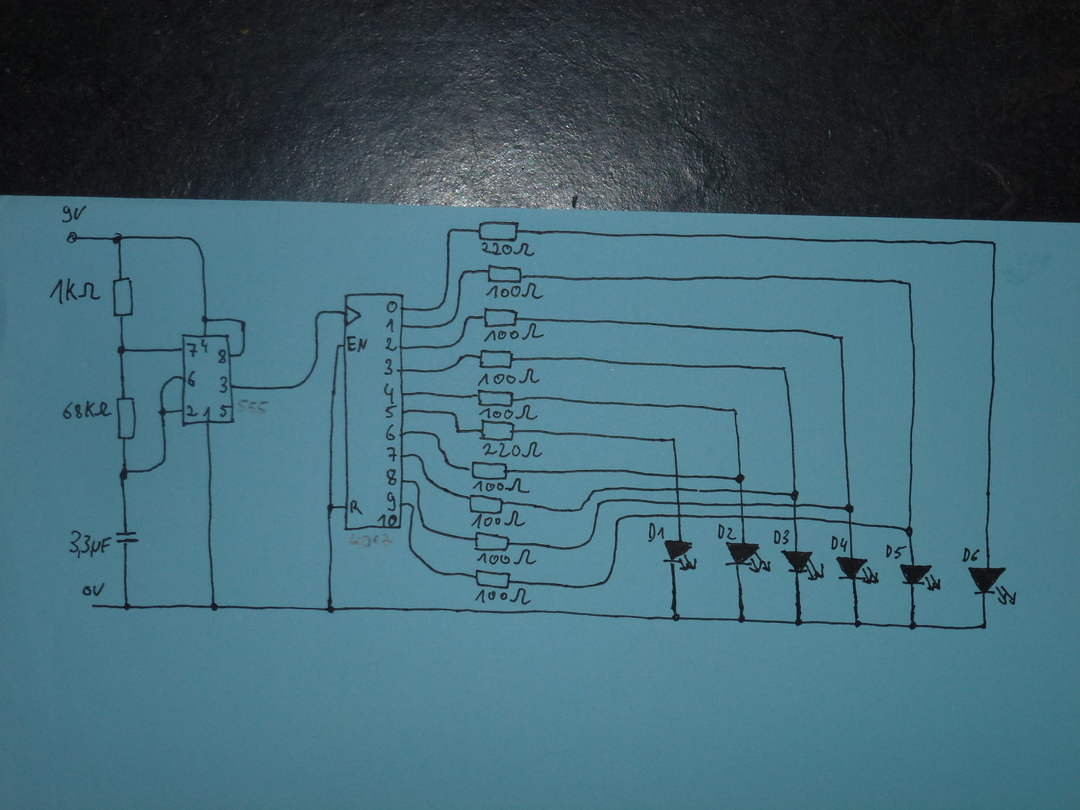capacitor.unpolarized: (115, 529, 140, 546)
crossover: (673, 485, 683, 494), (738, 486, 747, 495), (846, 519, 855, 528), (673, 472, 683, 480), (674, 499, 684, 507), (738, 513, 748, 521), (674, 512, 683, 520), (738, 499, 746, 508), (791, 515, 800, 523), (792, 502, 799, 509)
diode.light_emitting: (967, 566, 1017, 607), (725, 541, 772, 574), (780, 549, 825, 582), (835, 555, 880, 585), (899, 563, 942, 592), (663, 540, 699, 572)
integrated_circuit: (342, 291, 405, 532)
integrated_cricuit.ne555: (180, 331, 235, 426)
junction: (300, 356, 320, 386), (405, 544, 427, 567), (188, 232, 209, 255), (158, 376, 177, 391), (111, 232, 125, 247), (117, 467, 131, 481), (155, 457, 169, 471), (902, 524, 915, 539), (598, 575, 613, 588), (324, 601, 337, 616), (579, 539, 595, 550), (440, 459, 456, 470), (457, 267, 468, 283), (733, 472, 746, 485), (324, 500, 337, 513), (447, 313, 459, 327), (907, 620, 919, 633), (851, 617, 863, 630), (789, 488, 801, 501), (208, 600, 220, 613), (411, 451, 425, 462), (418, 518, 429, 532), (735, 614, 747, 626), (844, 502, 856, 514), (199, 314, 211, 326), (436, 295, 447, 308), (458, 352, 470, 363), (444, 226, 456, 237), (452, 336, 463, 348), (313, 308, 323, 321), (793, 617, 804, 628), (670, 612, 681, 623), (116, 345, 128, 355), (239, 317, 249, 329), (449, 409, 461, 419), (122, 602, 132, 614), (837, 332, 847, 343), (978, 621, 989, 631), (158, 407, 169, 417), (237, 347, 247, 358), (431, 429, 442, 439), (443, 366, 456, 374), (905, 279, 915, 289), (614, 515, 624, 525), (413, 482, 423, 492), (424, 473, 433, 484), (595, 499, 605, 508), (463, 314, 472, 324), (575, 505, 586, 513), (990, 238, 999, 247), (731, 406, 740, 415), (454, 426, 462, 436), (780, 364, 789, 372), (589, 486, 597, 495), (333, 342, 341, 351), (408, 502, 414, 513), (670, 436, 678, 444)
resistor: (115, 395, 138, 441), (111, 276, 135, 319), (477, 219, 519, 243), (473, 530, 512, 553), (479, 419, 516, 442), (468, 461, 509, 481), (482, 306, 519, 328), (478, 348, 515, 370), (474, 568, 511, 590), (468, 493, 504, 515), (476, 388, 515, 408), (487, 263, 523, 284)
terminal: (65, 231, 80, 244), (89, 602, 98, 611)
text: (49, 278, 102, 305), (67, 529, 113, 560), (477, 368, 540, 387), (485, 322, 544, 342), (475, 588, 532, 606), (62, 399, 113, 419), (477, 548, 537, 565), (480, 241, 537, 258), (483, 442, 543, 458), (473, 478, 531, 494), (472, 511, 526, 528), (486, 283, 543, 299), (479, 405, 538, 420), (348, 533, 393, 550), (236, 398, 270, 417), (60, 204, 86, 224), (346, 335, 369, 353), (647, 521, 665, 544), (82, 581, 106, 598), (884, 543, 906, 561), (716, 523, 737, 541), (382, 382, 397, 404), (830, 534, 848, 552), (961, 547, 981, 563), (773, 528, 790, 545), (377, 514, 398, 527), (385, 491, 398, 512), (349, 499, 364, 516), (385, 467, 398, 486), (385, 423, 397, 441), (187, 370, 199, 388), (384, 337, 398, 352), (383, 358, 394, 376), (386, 446, 398, 462), (385, 317, 397, 333), (219, 375, 229, 394), (384, 405, 397, 419), (385, 300, 398, 314), (218, 404, 231, 418), (186, 404, 199, 418), (186, 342, 197, 358), (203, 406, 214, 421), (217, 348, 227, 364), (200, 338, 210, 353)
